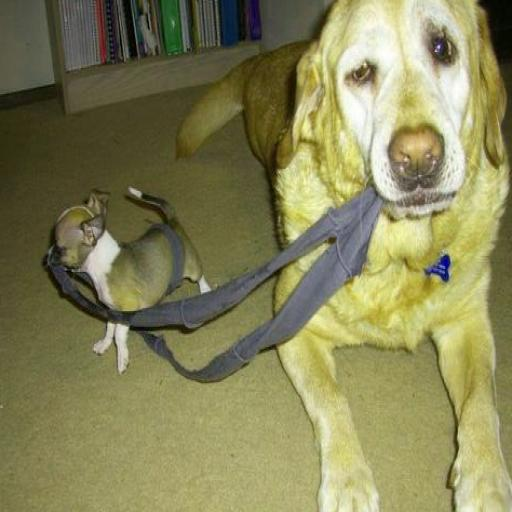dog_face: (283, 0, 494, 213), (40, 197, 108, 286)
